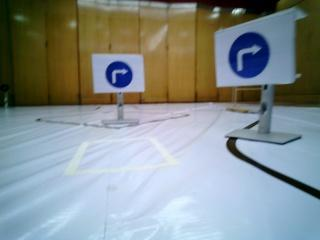right: (218, 30, 294, 83), (91, 54, 145, 90)
